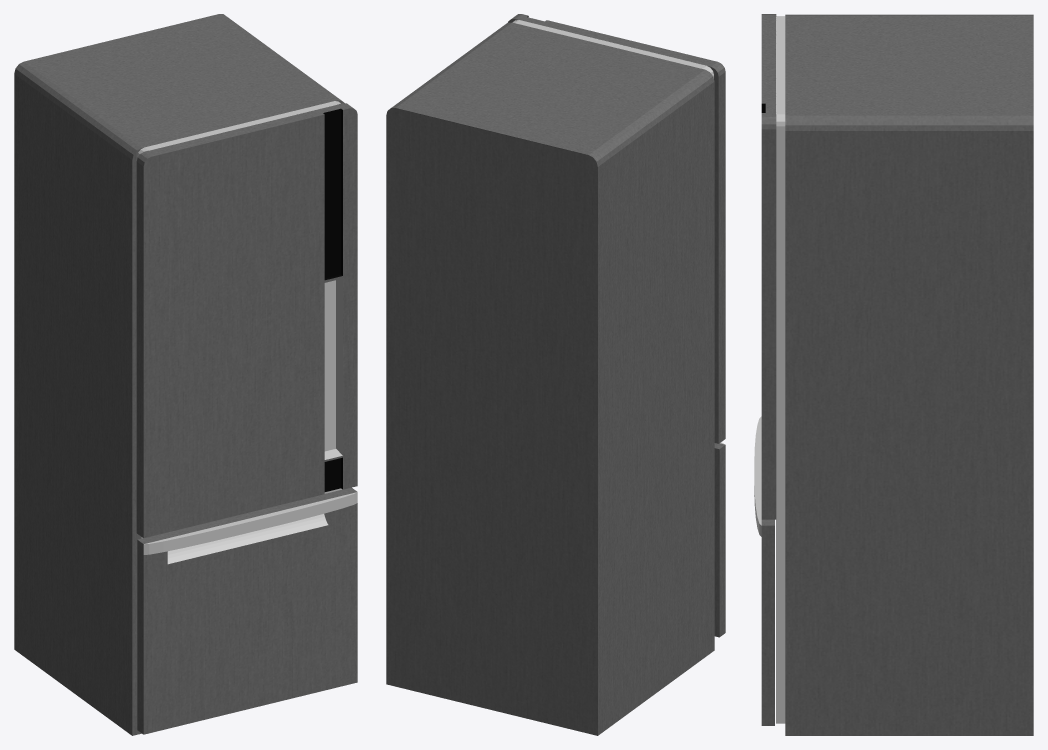
File: Fridge model.glb
3 views of the same model, side by side, from view 1: azimuth 30°, elevation 25°; view 2: azimuth 150°, elevation 25°; view 3: azimuth 270°, elevation 25° (orthographic). The views are drawn at different scales.
Visible parts, largest first — view 1: Plane.002; view 2: Plane.002; view 3: Plane.002.
Boxes of the visible parts, left/top/right/bottom form: Plane.002: left=14, top=14, right=357, bottom=735; Plane.002: left=386, top=14, right=725, bottom=735; Plane.002: left=754, top=14, right=1033, bottom=735.
Size of the model in its own units: 0.8753 by 2.29 by 0.9411.
Materials: 3 (1 with a texture image).
